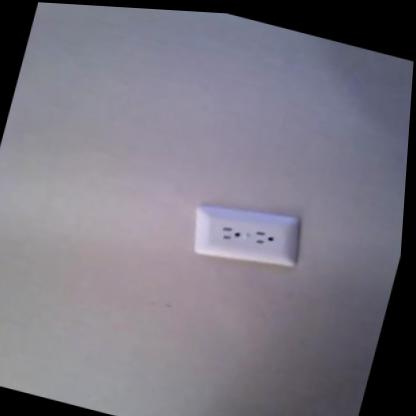OUTLET: (186, 188, 309, 279)
